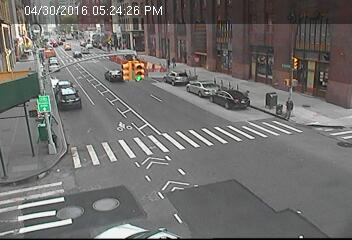neg: (255, 155, 291, 203), (199, 78, 227, 116), (107, 44, 133, 79), (152, 176, 177, 210), (245, 85, 270, 119), (31, 56, 56, 90), (325, 132, 349, 164), (67, 91, 91, 122), (74, 169, 97, 200), (114, 116, 133, 141), (205, 156, 224, 181), (32, 101, 50, 125), (290, 55, 308, 78), (264, 33, 280, 55), (63, 39, 78, 60)
pos: (282, 95, 302, 122), (169, 54, 178, 66)
